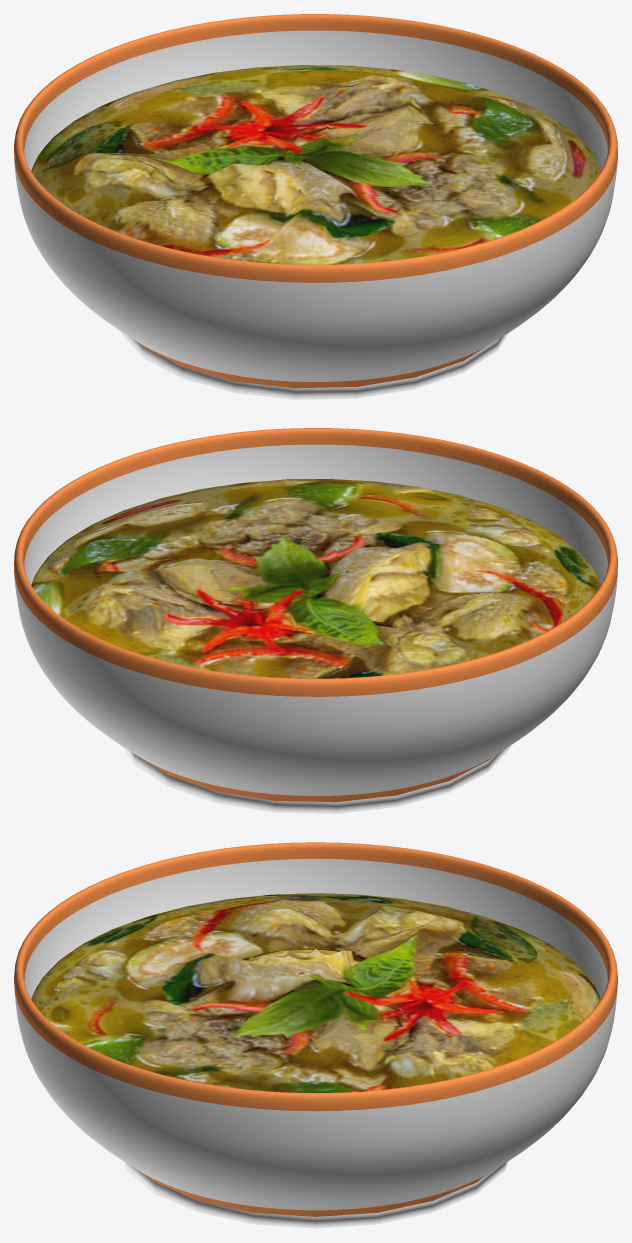
The model's file is asset.gltf.
3 renders of one model, top to bottom at view 1: azimuth 30°, elevation 25°; view 2: azimuth 150°, elevation 25°; view 3: azimuth 270°, elevation 25°, orthographic.
Visible parts, largest first — view 1: pCylinder1, pCylinder2; view 2: pCylinder1, pCylinder2; view 3: pCylinder1, pCylinder2.
Part boxes in pixels (x1,y1,x2,y2): pCylinder1: (14, 14, 617, 399); pCylinder2: (31, 65, 600, 264); pCylinder1: (14, 428, 617, 813); pCylinder2: (31, 479, 600, 678); pCylinder1: (14, 842, 617, 1228); pCylinder2: (31, 893, 600, 1092).
Size of the model in its own units: 8.87 by 2.86 by 8.87.
Materials: 4 (1 with a texture image).
